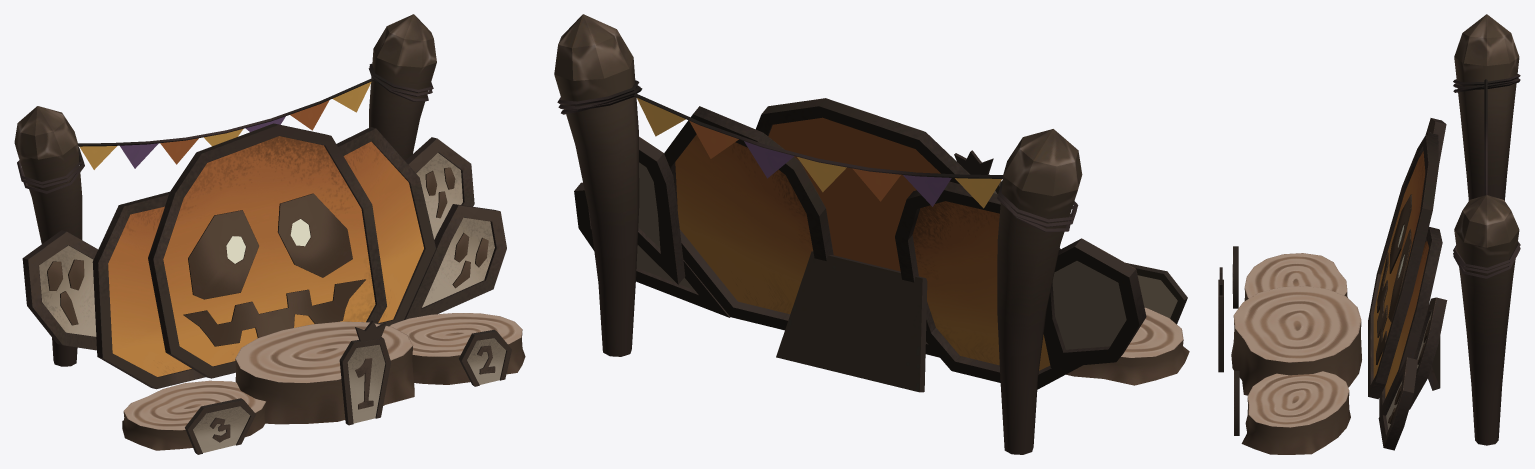
File: PumpkinStand.fbx
The picture shows the model from 3 angles, left to right: view 1: azimuth 30°, elevation 25°; view 2: azimuth 150°, elevation 25°; view 3: azimuth 270°, elevation 25°; orthographic projection. The views are drawn at different scales.
Visible parts, largest first — view 1: pumpkinstand, pumpkineye, Flag007, Flag006; view 2: pumpkinstand, Flag007, Flag005, Flag006, Flag004, Flag002, Flag001, Flag003; view 3: pumpkinstand.
Boxes of the visible parts, x1=… form: pumpkinstand: x1=14, y1=14, x2=525, y2=454; pumpkineye: x1=226, y1=219, x2=310, y2=263; Flag007: x1=332, y1=81, x2=371, y2=112; Flag006: x1=290, y1=100, x2=329, y2=130; pumpkinstand: x1=554, y1=14, x2=1189, y2=454; Flag007: x1=637, y1=98, x2=685, y2=136; Flag005: x1=744, y1=141, x2=794, y2=178; Flag006: x1=689, y1=121, x2=738, y2=158; Flag004: x1=797, y1=157, x2=846, y2=192; Flag002: x1=903, y1=175, x2=951, y2=206; Flag001: x1=955, y1=178, x2=1001, y2=208; Flag003: x1=852, y1=168, x2=900, y2=201; pumpkinstand: x1=1218, y1=14, x2=1520, y2=454.
Size of the model in its own units: 584 by 318 by 337.
